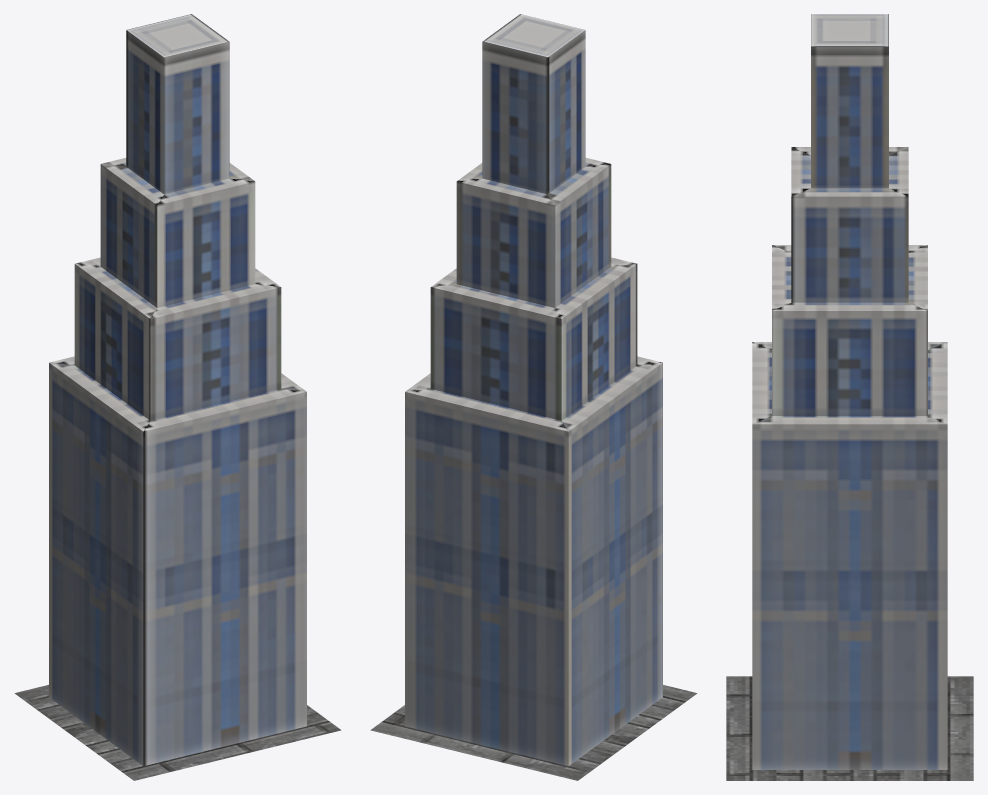
File: Skyscraper_02.obj
The picture shows the model from 3 angles, left to right: view 1: azimuth 30°, elevation 25°; view 2: azimuth 150°, elevation 25°; view 3: azimuth 270°, elevation 25°; orthographic projection. The views are drawn at different scales.
Visible parts, largest first — view 1: Box002, Tile; view 2: Box002, Tile; view 3: Box002, Tile.
Part boxes in pixels (bbox=[...]): Box002: bbox=[49, 14, 306, 766]; Tile: bbox=[14, 685, 341, 780]; Box002: bbox=[405, 14, 662, 766]; Tile: bbox=[370, 685, 697, 780]; Box002: bbox=[752, 14, 947, 769]; Tile: bbox=[726, 676, 973, 780].
Bounding box in the file's own units: 128 × 398 × 128.
